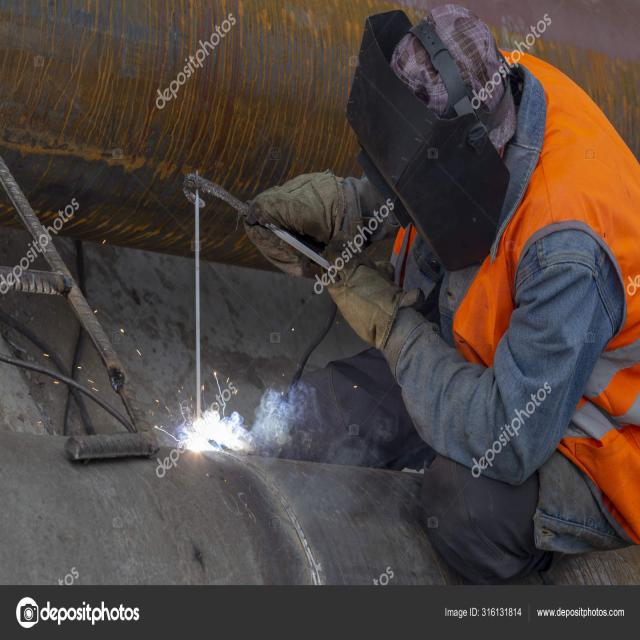welding: (186, 414, 223, 453)
